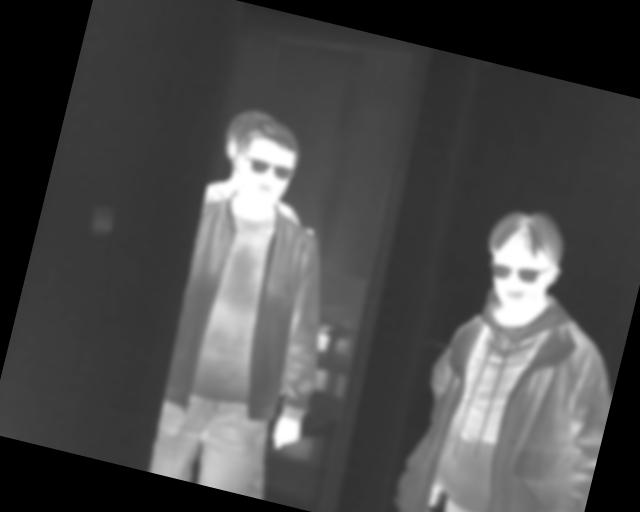face: (474, 200, 575, 320), (224, 113, 305, 215)
